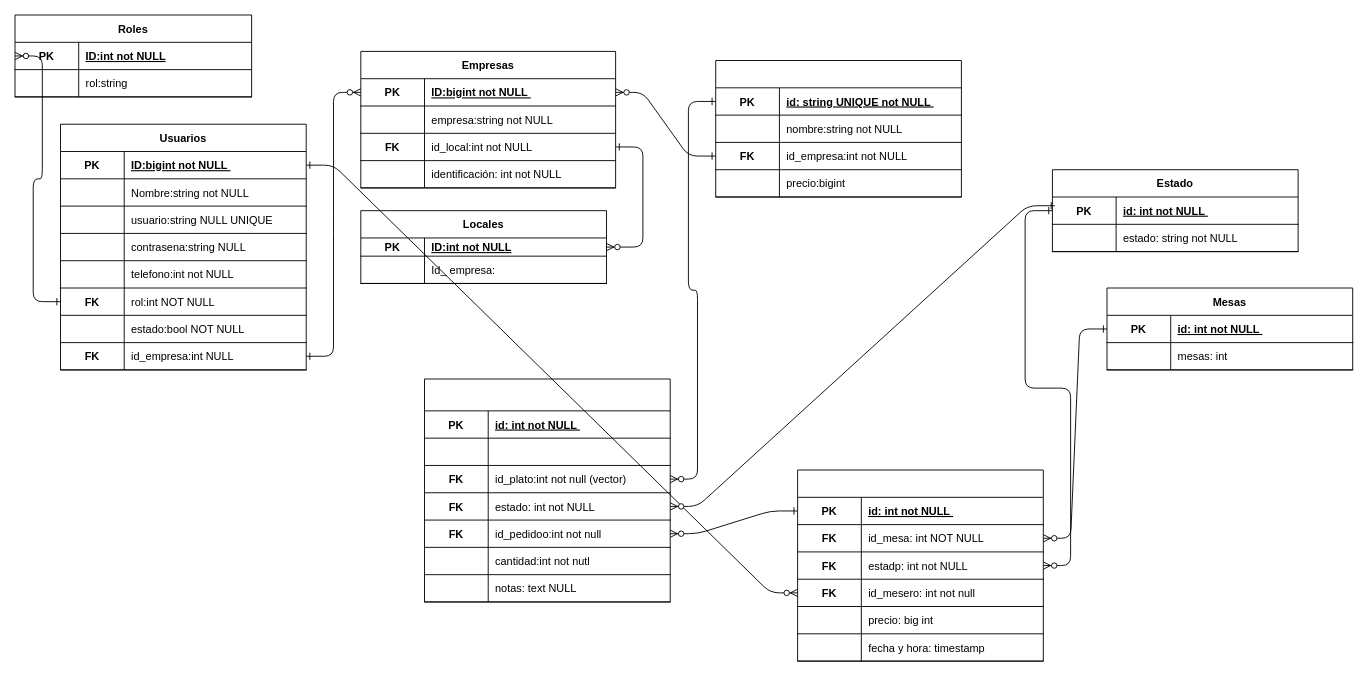
Image size: 1368x676. Some labels were removed from this diagram. The box of each missing label's shape, as (x1, y1, x2, y2) in pixels:
Pedidos: (797, 469, 1043, 661)
Platos: (715, 60, 961, 197)
subpedido: (424, 378, 670, 602)
